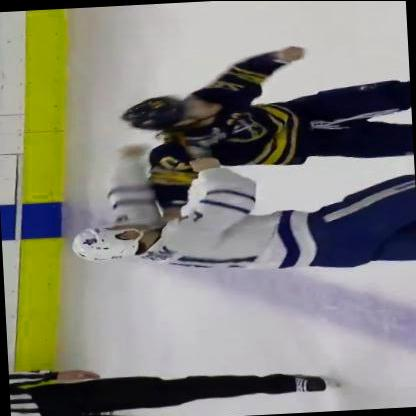voilence: (59, 35, 415, 282)
